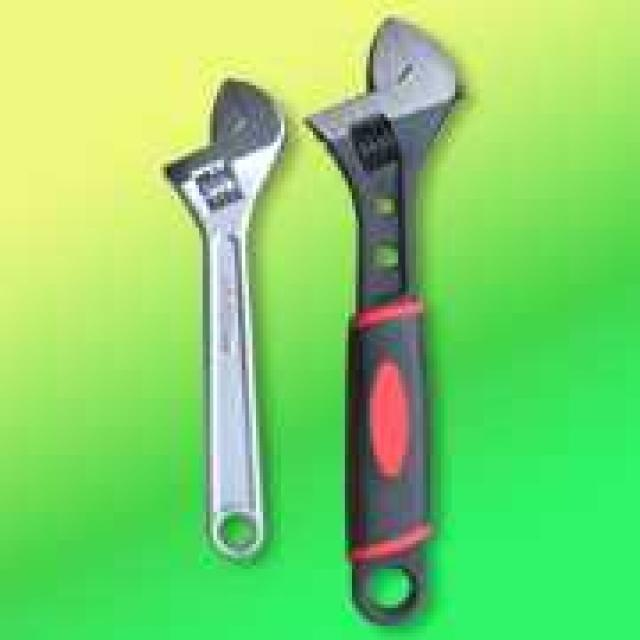wrench: (312, 12, 472, 630), (148, 65, 302, 561)
